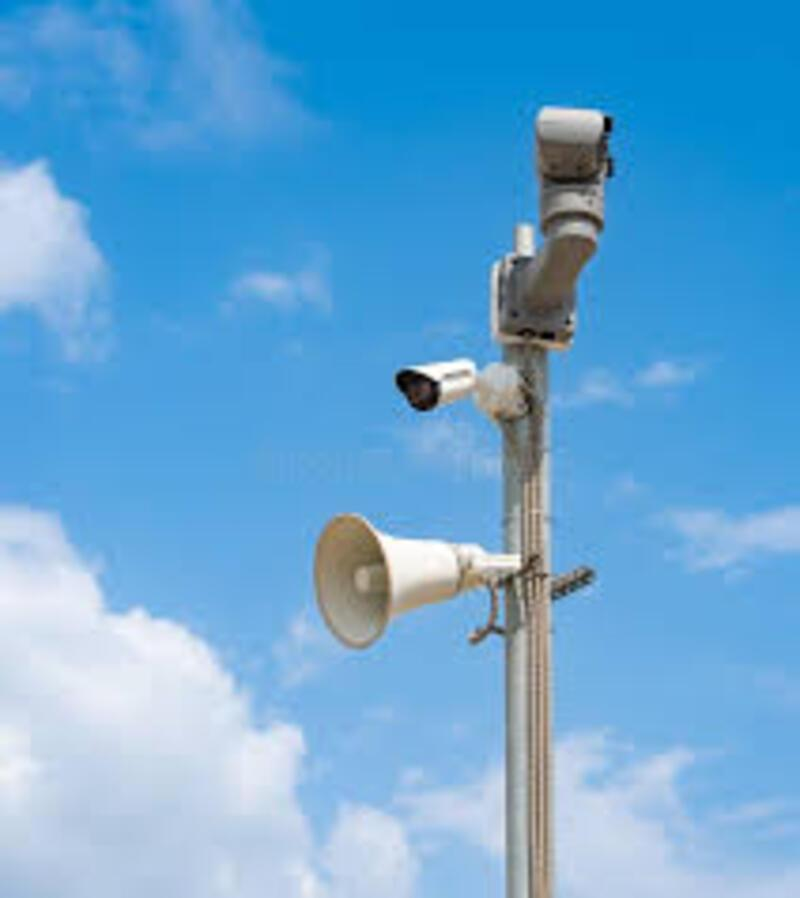bullet: (378, 357, 484, 414)
